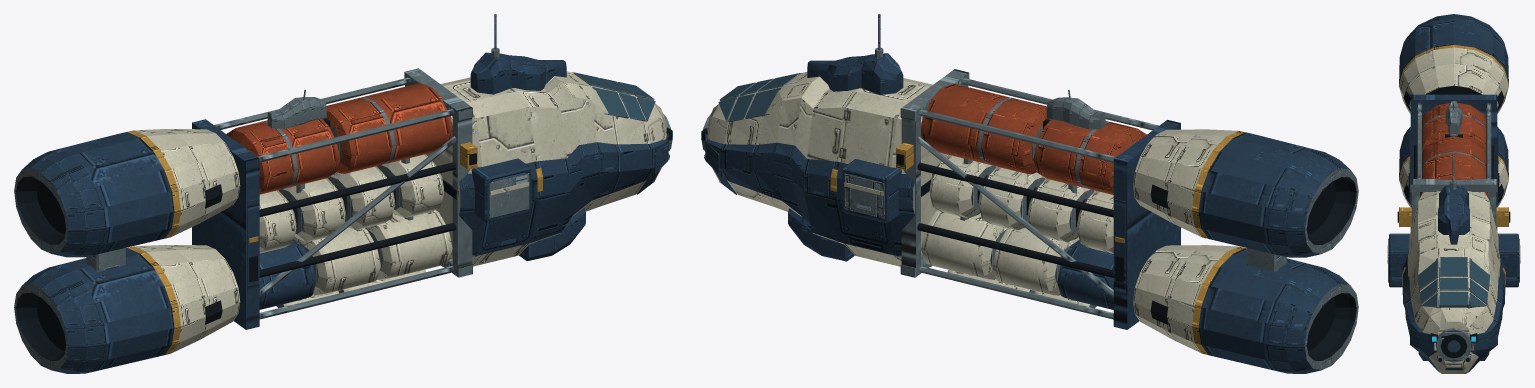
Rendered from wayfarer.glb.
The picture shows the model from 3 angles, left to right: view 1: azimuth 30°, elevation 25°; view 2: azimuth 150°, elevation 25°; view 3: azimuth 270°, elevation 25°; orthographic projection. The views are drawn at different scales.
Visible parts, largest first — view 1: Wayfarer revised hull; view 2: Wayfarer revised hull; view 3: Wayfarer revised hull.
Boxes of the visible parts, <box> form: Wayfarer revised hull: <box>14,14,672,373</box>; Wayfarer revised hull: <box>701,14,1358,373</box>; Wayfarer revised hull: <box>1387,14,1520,373</box>.
Size of the model in its own units: 2 by 0.7718 by 0.462.
2 materials, 1 textured.
